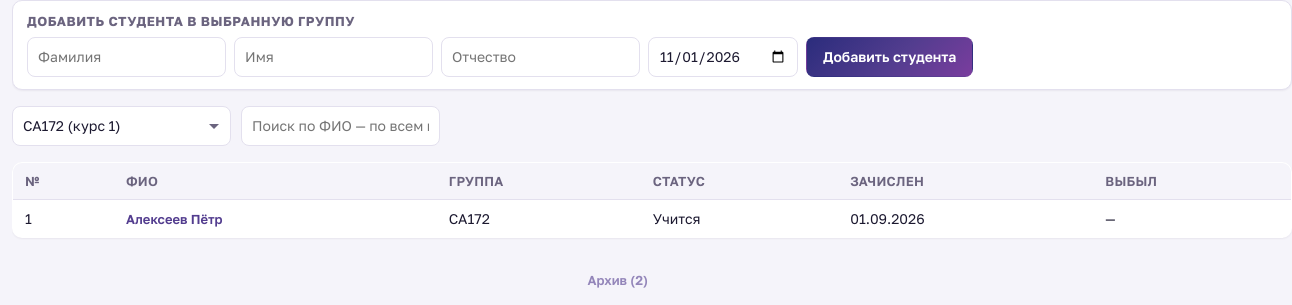
Test: StudentsTab › смена группы загружает её студентов
Expected: the link "Алексеев Пётр" is shown, [122,209,226,229]
Click the dropdown at (122, 126), box [12,106,231,146]
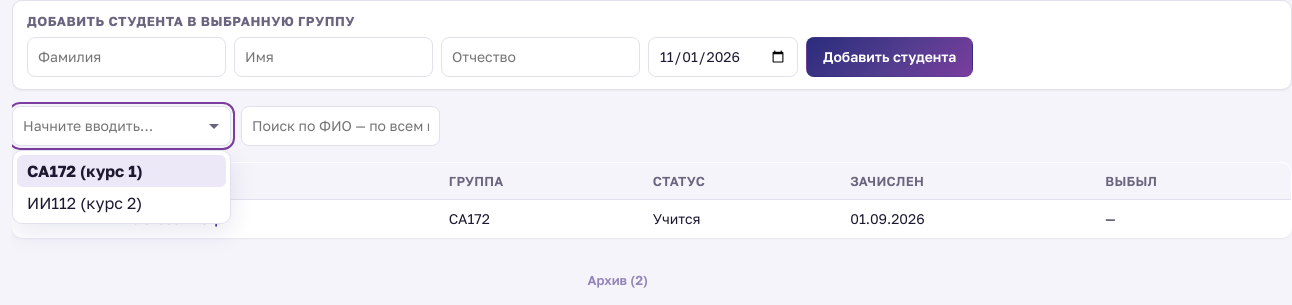
Click the option "ИИ112 (курс 2)" at (85, 203), box [27,193,142,213]
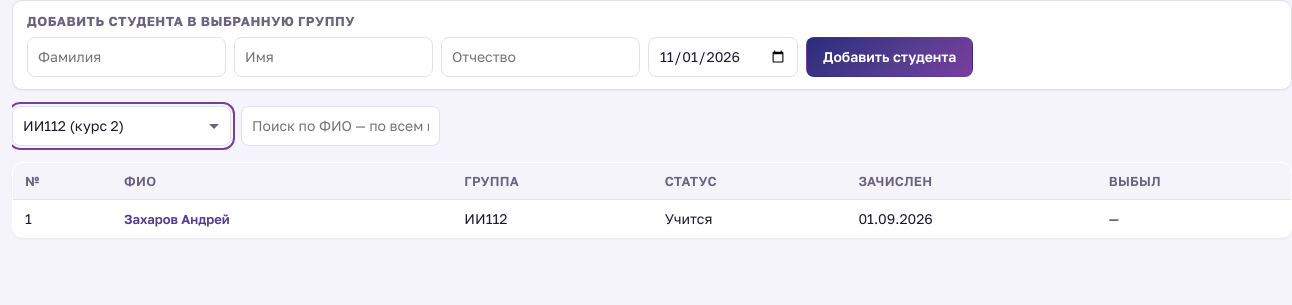
Expected: the link "Захаров Андрей" is shown, [120,209,234,229]
Expected: the link "Алексеев Пётр" is gone
